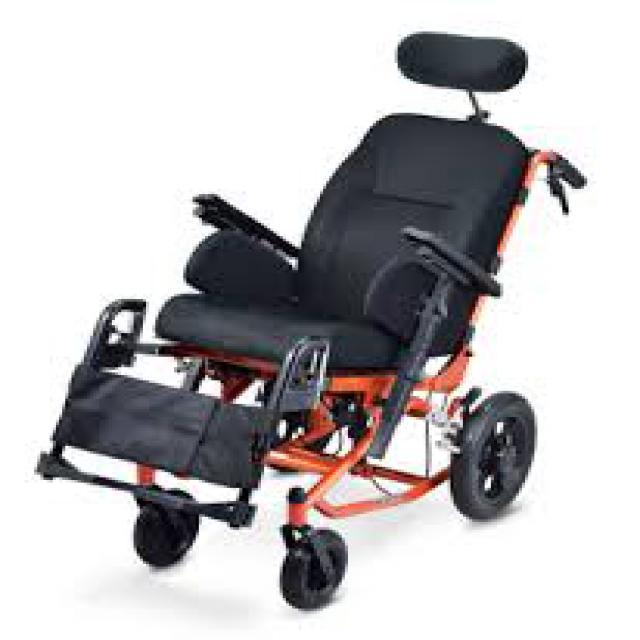wheelchair: (28, 21, 587, 627)
